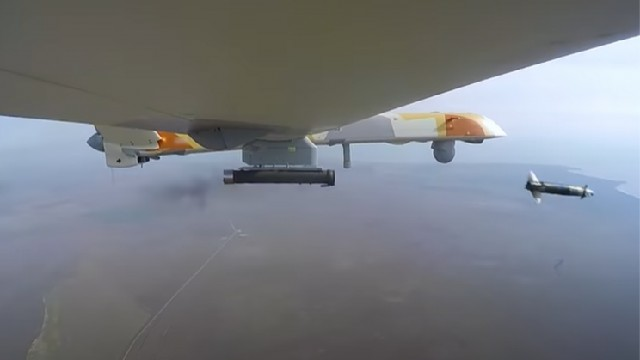ten_lua: (527, 170, 596, 205)
